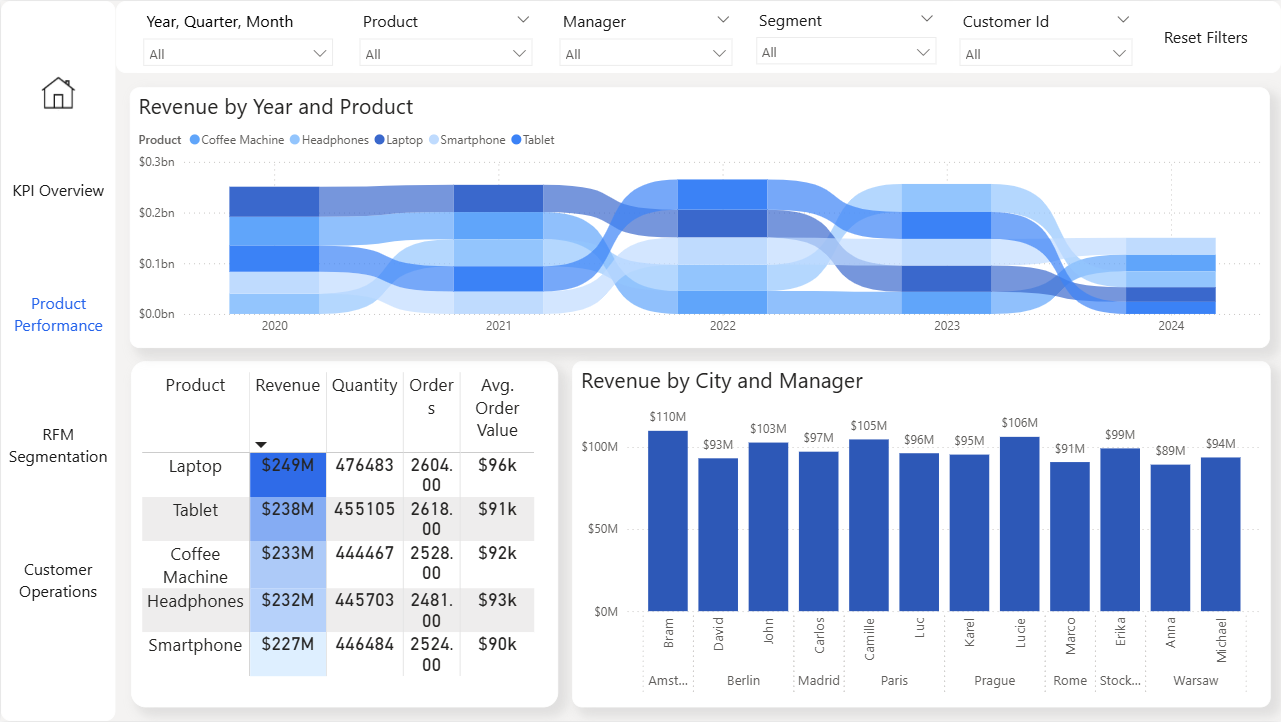

This screenshot's page, from the dashboard's own definition file:
{"tool":"powerbi","page":{"name":"Product Performance","canvas":[1280,720],"ordinal":2},"visuals":[{"type":"pivotTable","fields":{"Values":["_measures.Revenue_Millions","_measures (2).Total Quantity","_measures.Total Orders","_measures.Avg_Order_Value_Clean"],"Rows":["mart dim_product.product_name"]},"box":[130,360,427.5,346.2],"z":0},{"type":"textbox","box":[0,0,114.3,720],"z":1000},{"type":"actionButton","box":[0,161.4,114.3,54.3],"z":2000},{"type":"actionButton","box":[0,415.7,114.3,54.3],"z":4000},{"type":"actionButton","box":[0,551.4,114.3,54.3],"z":5000},{"type":"actionButton","box":[0,285,115,55],"z":8000},{"type":"clusteredColumnChart","fields":{"Category":["mart fact_sales.city Hierarchy.city","mart fact_sales.city Hierarchy.manager","mart dim_product.product_name"],"Y":["_measures.Total Revenue"]},"box":[570.9,360,698.2,346.4],"z":11000},{"type":"ribbonChart","fields":{"Category":["mart dim_date.year Hierarchy.Year","mart dim_date.year Hierarchy.Quarter","mart dim_date.year Hierarchy.Month"],"Y":["_measures.Total Revenue"],"Series":["mart dim_product.product_name"]},"box":[129.1,86.4,1140,260.9],"z":12000},{"type":"actionButton","box":[36.2,71.5,48.5,42.3],"z":13000},{"type":"textbox","box":[115,0,1165,71.7],"z":14000},{"type":"slicer","fields":{"Values":["mart dim_date.year Hierarchy.Year","mart dim_date.year Hierarchy.Quarter","mart dim_date.year Hierarchy.Month"]},"box":[128.9,0,216.7,72.2],"z":17000},{"type":"slicer","fields":{"Values":["mart fact_sales.manager"]},"box":[545.6,0,200,72.2],"z":18000},{"type":"slicer","fields":{"Values":["mart dim_customer.Masked_Customer_Id"]},"box":[945.6,0,200,72.2],"z":19000},{"type":"slicer","fields":{"Values":["mart dim_product.product_name"]},"box":[345.6,0,200,72.2],"z":20000},{"type":"actionButton","box":[1145.6,0,120,72],"z":21000},{"type":"slicer","fields":{"Values":["mart dim_customer.segment"]},"box":[745.6,3,200,63.3],"z":22000}]}

Visuals, with their boxes in screenshot pixels (x1, y1, x2, y2), scaled from the page's 1280x720 canvas onto the 1281x722 screenshot:
pivotTable - _measures.Revenue_Millions x _measures (2).Total Quantity: left=130, top=361, right=558, bottom=708
textbox: left=0, top=0, right=114, bottom=721
actionButton: left=0, top=162, right=114, bottom=216
actionButton: left=0, top=417, right=114, bottom=471
actionButton: left=0, top=553, right=114, bottom=607
actionButton: left=0, top=286, right=115, bottom=341
clusteredColumnChart - mart fact_sales.city Hierarchy.city x mart fact_sales.city Hierarchy.manager: left=571, top=361, right=1270, bottom=708
ribbonChart - mart dim_date.year Hierarchy.Year x mart dim_date.year Hierarchy.Quarter: left=129, top=87, right=1270, bottom=348
actionButton: left=36, top=72, right=85, bottom=114
textbox: left=115, top=0, right=1280, bottom=72
slicer - mart dim_date.year Hierarchy.Year x mart dim_date.year Hierarchy.Quarter: left=129, top=0, right=346, bottom=72
slicer - mart fact_sales.manager: left=546, top=0, right=746, bottom=72
slicer - mart dim_customer.Masked_Customer_Id: left=946, top=0, right=1146, bottom=72
slicer - mart dim_product.product_name: left=346, top=0, right=546, bottom=72
actionButton: left=1146, top=0, right=1267, bottom=72
slicer - mart dim_customer.segment: left=746, top=3, right=946, bottom=66
